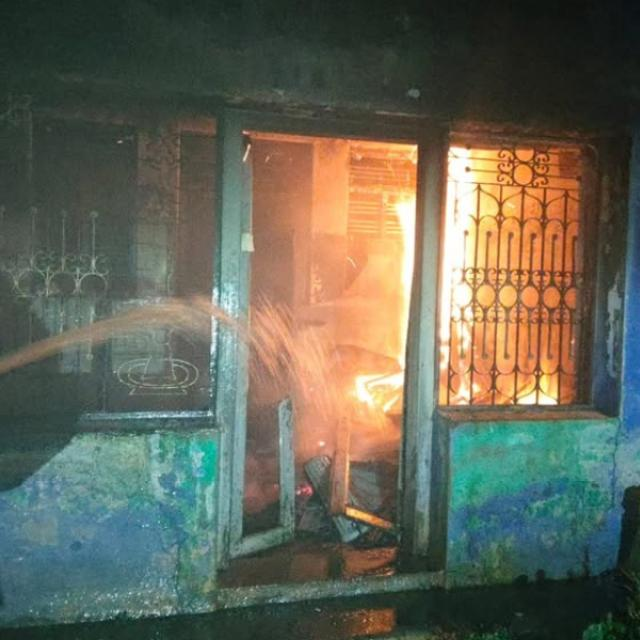fire: (396, 181, 477, 371), (409, 144, 477, 182), (356, 373, 404, 411)
